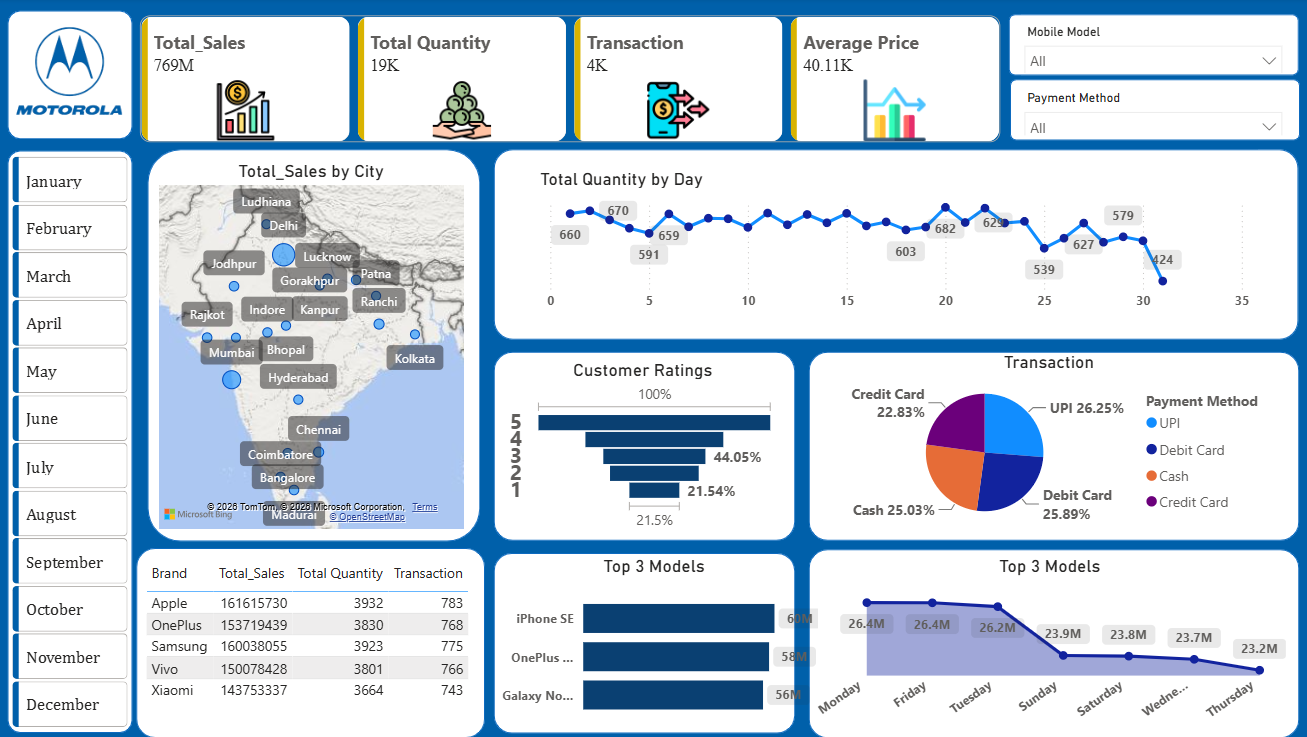

The dashboard page shown, as its layout file describes it:
{"tool":"powerbi","page":{"name":"Page 1","canvas":[1280,720],"ordinal":0},"visuals":[{"type":"shape","box":[978.4,15.7,279.9,59.1],"z":0},{"type":"shape","box":[784.9,532.4,473.4,182.5],"z":1000},{"type":"shape","box":[481.6,145.5,776.7,183.9],"z":2000},{"type":"shape","box":[146.8,145.5,321.1,378.7],"z":3000},{"type":"shape","box":[12.1,12.1,120.6,124.3],"z":4000},{"type":"shape","box":[12.1,147.2,120.6,562.2],"z":5000},{"type":"image","box":[20.5,12.1,102.5,117],"z":6000},{"type":"advancedSlicerVisual","fields":{"Values":["Sales_Data.Date.Variation.Date Hierarchy.Month"]},"box":[12.1,148.4,121.9,562.2],"z":7000},{"type":"cardVisual","fields":{"Data":["Sales_Data.Total_Sales","Sales_Data.Total Quantity","Sales_Data.Transaction","Sales_Data.Average Price"]},"box":[123.1,0,866.2,156.8],"z":8000},{"type":"map","fields":{"Category":["Sales_Data.City"],"Size":["Sales_Data.Total_Sales"]},"box":[153.2,156.8,304,360.7],"z":9000},{"type":"lineChart","fields":{"Y":["Sales_Data.Total Quantity"],"Category":["Sales_Data.Date.Variation.Date Hierarchy.Month","Sales_Data.Date.Variation.Date Hierarchy.Day"]},"box":[521.2,164.1,697.3,146],"z":10000},{"type":"shape","box":[481.6,535.2,290.9,174.3],"z":11000},{"type":"clusteredBarChart","title":"Top 3 Models","fields":{"Category":["Sales_Data.Mobile Model"],"Y":["Sales_Data.Total_Sales"]},"box":[473.4,537.9,326.6,170.2],"z":12000},{"type":"shape","box":[784.9,341.7,473.4,182.5],"z":13000},{"type":"pieChart","title":"Transaction","fields":{"Category":["Sales_Data.Payment Method"],"Y":["Sales_Data.Transaction"]},"box":[794.5,341.7,444.6,175.6],"z":14000},{"type":"shape","box":[481.6,341.7,290.9,182.5],"z":15000},{"type":"funnel","title":"Customer Ratings","fields":{"Category":["Sales_Data.Customer Ratings"],"Y":["CountNonNull(Sales_Data.Customer Ratings)"]},"box":[492.6,348.5,266.2,168.8],"z":16000},{"type":"areaChart","title":"Top 3 Models","fields":{"Category":["Sales_Data.Day Name"],"Y":["Sales_Data.Total_Sales"]},"box":[785.4,538.1,465.7,170.1],"z":17000},{"type":"shape","box":[136.3,530.8,336.6,183.4],"z":18000},{"type":"tableEx","fields":{"Values":["Sales_Data.Brand","Sales_Data.Total_Sales","Sales_Data.Total Quantity","Sales_Data.Transaction"]},"box":[139.9,539.3,330.6,167.7],"z":19000},{"type":"slicer","fields":{"Values":["Sales_Data.Mobile Model"]},"box":[983.2,20.5,269,51.9],"z":20000},{"type":"shape","box":[979.6,78.4,279.9,59.1],"z":22000},{"type":"slicer","fields":{"Values":["Sales_Data.Payment Method"]},"box":[983.2,84.5,269,48.3],"z":24000}]}

Visuals, with their boxes in screenshot pixels (x1, y1, x2, y2), scaled from the page's 1280x720 canvas onto the 1307x737 screenshot:
shape: 999,16,1285,77
shape: 801,545,1285,732
shape: 492,149,1285,337
shape: 150,149,478,537
shape: 12,12,135,140
shape: 12,151,135,726
image: 21,12,126,132
advancedSlicerVisual - Sales_Data.Date.Variation.Date Hierarchy.Month: 12,152,137,727
cardVisual - Sales_Data.Total_Sales x Sales_Data.Total Quantity: 126,0,1010,161
map - Sales_Data.City x Sales_Data.Total_Sales: 156,161,467,530
lineChart - Sales_Data.Total Quantity x Sales_Data.Date.Variation.Date Hierarchy.Month: 532,168,1244,317
shape: 492,548,789,726
"Top 3 Models" clusteredBarChart: 483,551,817,725
shape: 801,350,1285,537
"Transaction" pieChart: 811,350,1265,530
shape: 492,350,789,537
"Customer Ratings" funnel: 503,357,775,530
"Top 3 Models" areaChart: 802,551,1277,725
shape: 139,543,483,731
tableEx - Sales_Data.Brand x Sales_Data.Total_Sales: 143,552,480,724
slicer - Sales_Data.Mobile Model: 1004,21,1279,74
shape: 1000,80,1286,141
slicer - Sales_Data.Payment Method: 1004,86,1279,136
